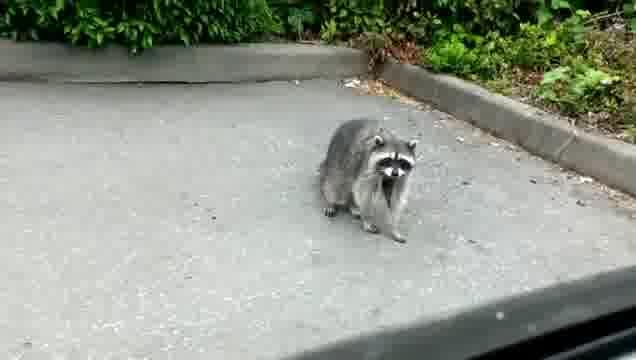raccoon: (314, 116, 420, 246)
